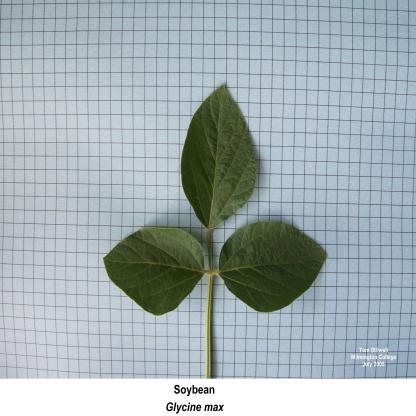Soyabean leaf: (179, 77, 259, 228), (218, 222, 328, 312), (102, 226, 206, 318)
